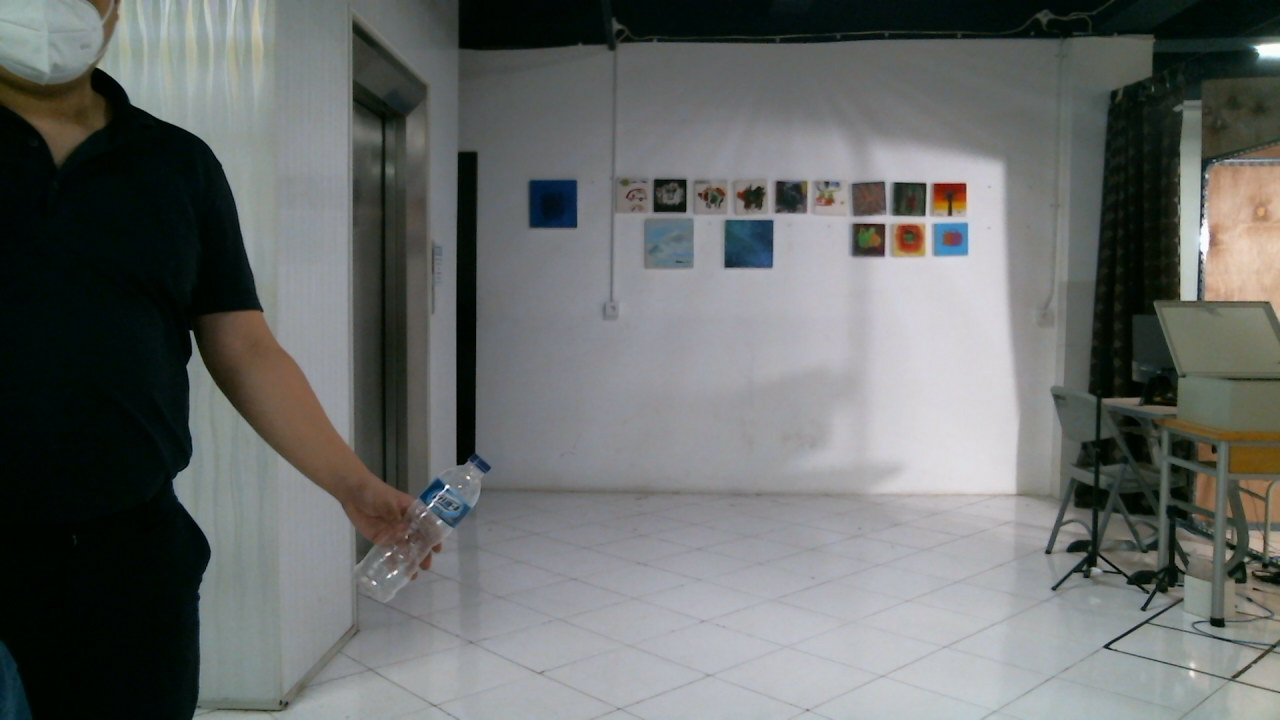Bottle: (352, 449, 490, 601)
